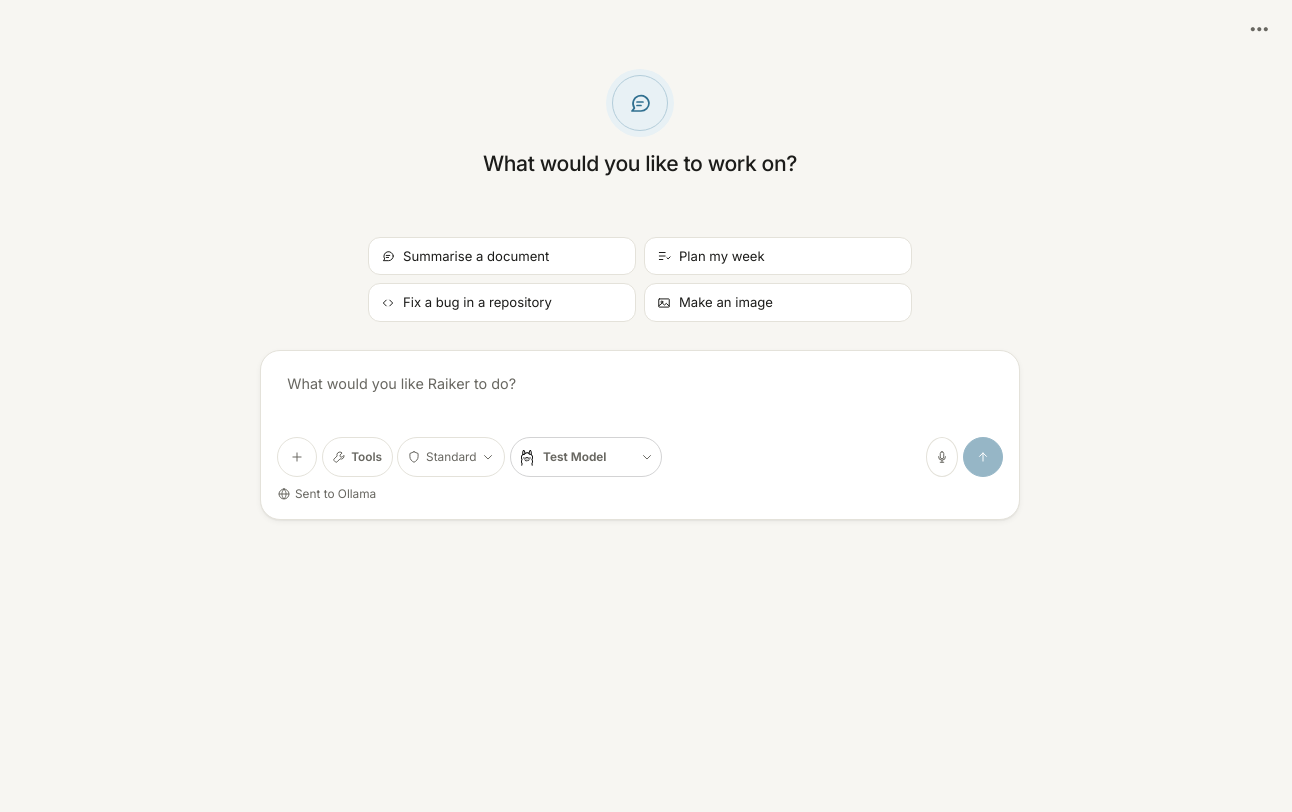
Scenario: ChatView composer — commands, mentions and message actions › opens the command menu on a leading slash and lists only real commands
The image size is (1292, 812).
Type "/" into the text box named "Prompt" at (640, 396), box [277, 367, 1003, 425]
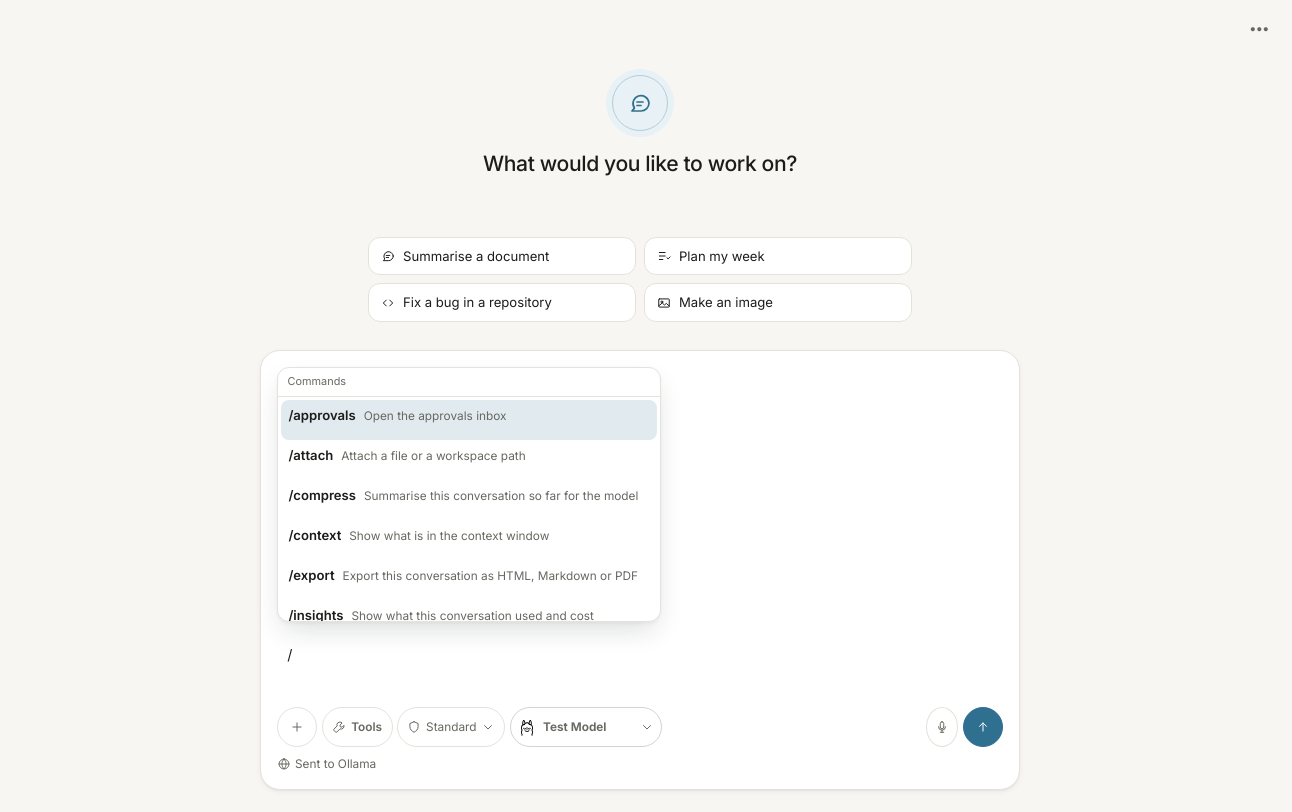
Check: the text "/export" is shown, box [288, 565, 334, 585]
